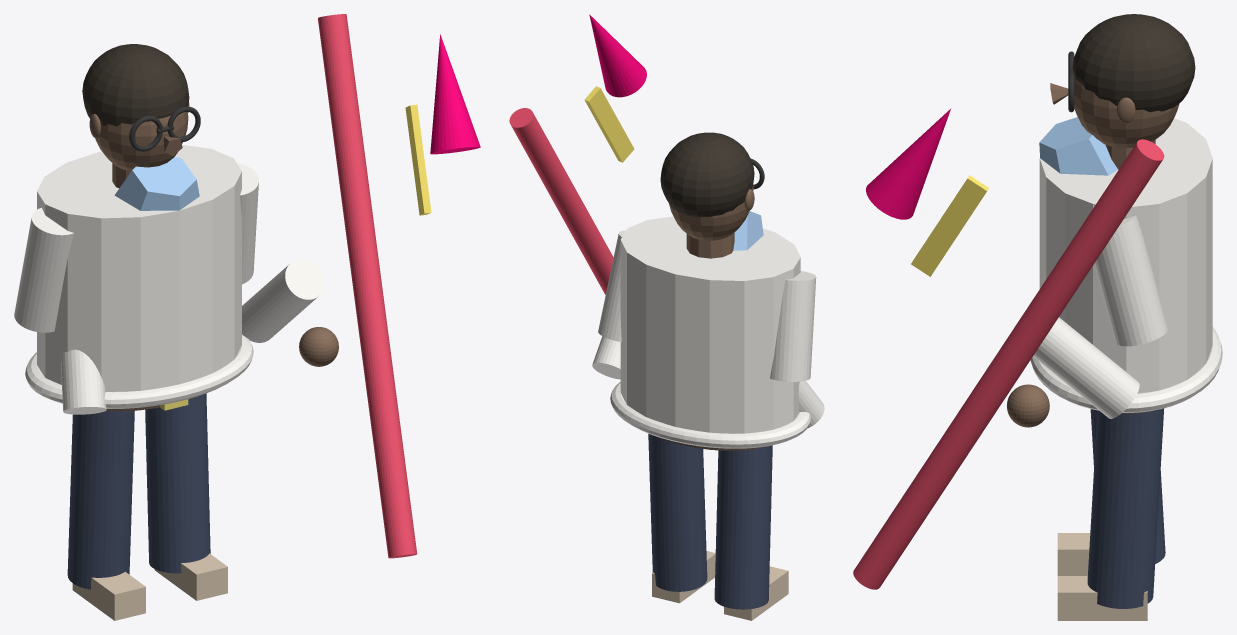
The model's file is prof_boss.glb.
3 views of the same model, side by side, from view 1: azimuth 30°, elevation 25°; view 2: azimuth 150°, elevation 25°; view 3: azimuth 270°, elevation 25° (orthographic). The views are drawn at different scales.
Visible parts, largest first — view 1: Cylinder, Cylinder.010, Cylinder.008, Cylinder.009, Sphere.001, Cylinder.003, Cylinder.006, Torus, Cone, Cone.002, Sphere, Cylinder.004 (+5 smaller); view 2: Cylinder, Cylinder.008, Cylinder.009, Sphere.001, Cylinder.010, Cylinder.003, Torus, Cone.002, Sphere, Cube.004, Cylinder.005, Cube.002 (+5 smaller); view 3: Cylinder, Cylinder.010, Cylinder.009, Sphere.001, Cylinder.005, Cylinder.006, Cone.002, Sphere, Torus, Cone, Cube.004, Cube.003 (+3 smaller).
Boxes of the visible parts, x1,y1,x2,y2 form: Cylinder: [37, 145, 241, 391]; Cylinder.010: [318, 14, 417, 558]; Cylinder.008: [67, 410, 134, 589]; Cylinder.009: [145, 393, 210, 573]; Sphere.001: [82, 44, 189, 126]; Cylinder.003: [14, 207, 74, 332]; Cylinder.006: [242, 259, 324, 342]; Torus: [25, 334, 253, 408]; Cone: [114, 157, 199, 210]; Cone.002: [430, 34, 480, 154]; Sphere: [95, 112, 188, 171]; Cylinder.004: [60, 349, 106, 414]; Cylinder: [620, 216, 800, 433]; Cylinder.008: [714, 445, 772, 609]; Cylinder.009: [648, 433, 707, 591]; Sphere.001: [660, 132, 754, 217]; Cylinder.010: [509, 108, 613, 294]; Cylinder.003: [770, 271, 816, 381]; Torus: [610, 382, 811, 448]; Cone.002: [589, 14, 646, 97]; Sphere: [669, 184, 753, 240]; Cube.004: [584, 86, 634, 162]; Cylinder.005: [598, 230, 626, 341]; Cube.002: [724, 566, 788, 620]; Cylinder: [1039, 118, 1212, 393]; Cylinder.010: [853, 139, 1164, 589]; Cylinder.009: [1087, 408, 1164, 608]; Sphere.001: [1072, 14, 1195, 112]; Cylinder.005: [1094, 215, 1168, 346]; Cylinder.006: [1033, 317, 1139, 418]; Cone.002: [866, 109, 950, 219]; Sphere: [1073, 71, 1179, 147]; Torus: [1030, 327, 1222, 412]; Cone: [1039, 117, 1118, 175]; Cube.004: [911, 175, 988, 276]; Cube.003: [1057, 576, 1147, 620].
Bounding box in the file's own units: 2.18 × 3.37 × 1.89.
